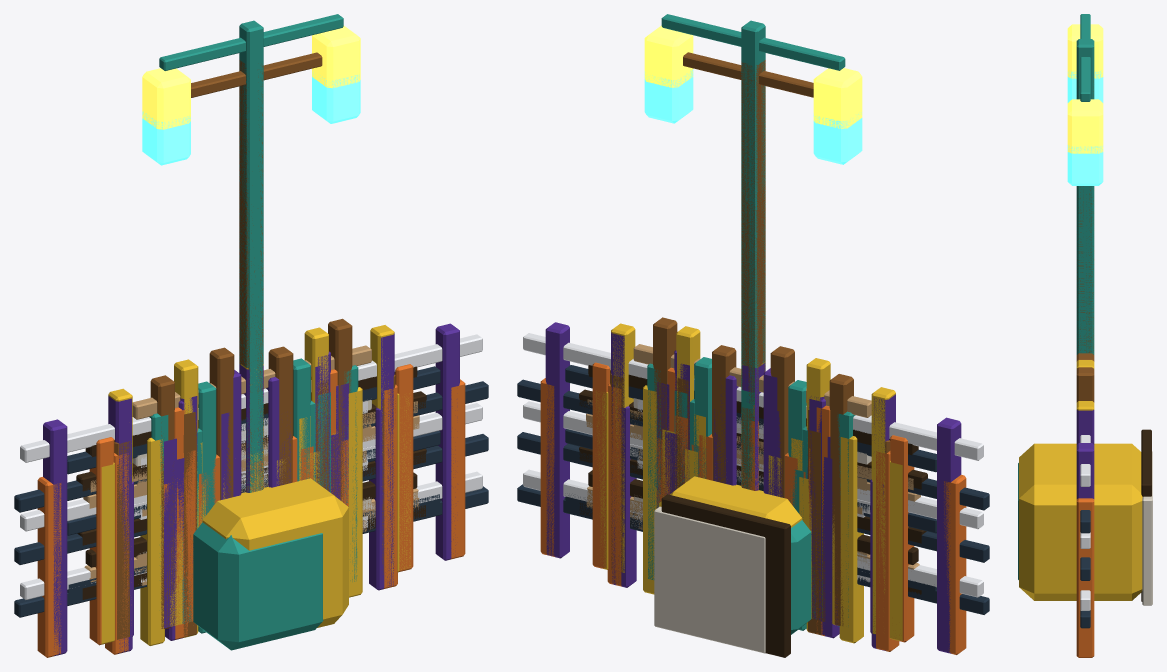
Rendered from flagship_props_013.glb.
The picture shows the model from 3 angles, left to right: view 1: azimuth 30°, elevation 25°; view 2: azimuth 150°, elevation 25°; view 3: azimuth 270°, elevation 25°; orthographic projection. The views are drawn at different scales.
Visible parts, largest first — view 1: Prop_BBIsle_Fence_09, Prop_BBIsle_Fence_00, Prop_BBIsle_Lamp_00, Prop_BBIsle_Crate_19, Prop_BBIsle_Fence_16, Prop_BBIsle_Fence_15, Prop_BBIsle_Fence_18, Prop_BBIsle_Crate_18, Prop_BBIsle_Lamp_01, Prop_BBIsle_Fence_17, Prop_BBIsle_Fence_11, Prop_BBIsle_Fence_04 (+10 smaller); view 2: Prop_BBIsle_Fence_09, Prop_BBIsle_Fence_00, Prop_BBIsle_Crate_19, Prop_BBIsle_Lamp_00, Prop_BBIsle_Fence_16, Prop_BBIsle_Lamp_01, Prop_BBIsle_Fence_18, Prop_BBIsle_Fence_15, Prop_BBIsle_Crate_18, Prop_BBIsle_Fence_11, Prop_BBIsle_Fence_04, Prop_BBIsle_Fence_17 (+9 smaller); view 3: Prop_BBIsle_Crate_18, Prop_BBIsle_Lamp_00, Prop_BBIsle_Fence_00, Prop_BBIsle_Lamp_01, Prop_BBIsle_Fence_09, Prop_BBIsle_Crate_19, Prop_BBIsle_Fence_18, Prop_BBIsle_Fence_11.
Boxes of the visible parts, box(x1,y1,x2,y2) form: Prop_BBIsle_Fence_09: box(20, 323, 482, 656); Prop_BBIsle_Fence_00: box(14, 379, 488, 657); Prop_BBIsle_Lamp_00: box(142, 14, 360, 492); Prop_BBIsle_Crate_19: box(193, 522, 323, 650); Prop_BBIsle_Fence_16: box(76, 387, 426, 645); Prop_BBIsle_Fence_15: box(67, 364, 440, 645); Prop_BBIsle_Fence_18: box(132, 318, 371, 628); Prop_BBIsle_Crate_18: box(202, 478, 348, 627); Prop_BBIsle_Lamp_01: box(142, 52, 360, 492); Prop_BBIsle_Fence_17: box(132, 358, 371, 633); Prop_BBIsle_Fence_11: box(85, 325, 417, 637); Prop_BBIsle_Fence_04: box(128, 407, 392, 640); Prop_BBIsle_Fence_09: box(523, 322, 983, 653); Prop_BBIsle_Fence_00: box(517, 378, 989, 654); Prop_BBIsle_Crate_19: box(654, 506, 811, 653); Prop_BBIsle_Lamp_00: box(644, 14, 862, 470); Prop_BBIsle_Fence_16: box(579, 385, 927, 643); Prop_BBIsle_Lamp_01: box(644, 52, 862, 486); Prop_BBIsle_Fence_18: box(633, 317, 871, 625); Prop_BBIsle_Fence_15: box(565, 362, 936, 642); Prop_BBIsle_Crate_18: box(659, 476, 802, 657); Prop_BBIsle_Fence_11: box(588, 323, 918, 633); Prop_BBIsle_Fence_04: box(613, 406, 883, 638); Prop_BBIsle_Fence_17: box(633, 357, 871, 630); Prop_BBIsle_Crate_18: box(1019, 429, 1151, 601); Prop_BBIsle_Lamp_00: box(1067, 14, 1103, 354); Prop_BBIsle_Fence_00: box(1076, 498, 1094, 657); Prop_BBIsle_Lamp_01: box(1067, 70, 1103, 354); Prop_BBIsle_Fence_09: box(1076, 410, 1094, 610); Prop_BBIsle_Crate_19: box(1018, 451, 1152, 605); Prop_BBIsle_Fence_18: box(1076, 353, 1094, 402); Prop_BBIsle_Fence_11: box(1076, 360, 1094, 410).
Bounding box in the file's own units: 2.77 × 3.34 × 0.7605.
